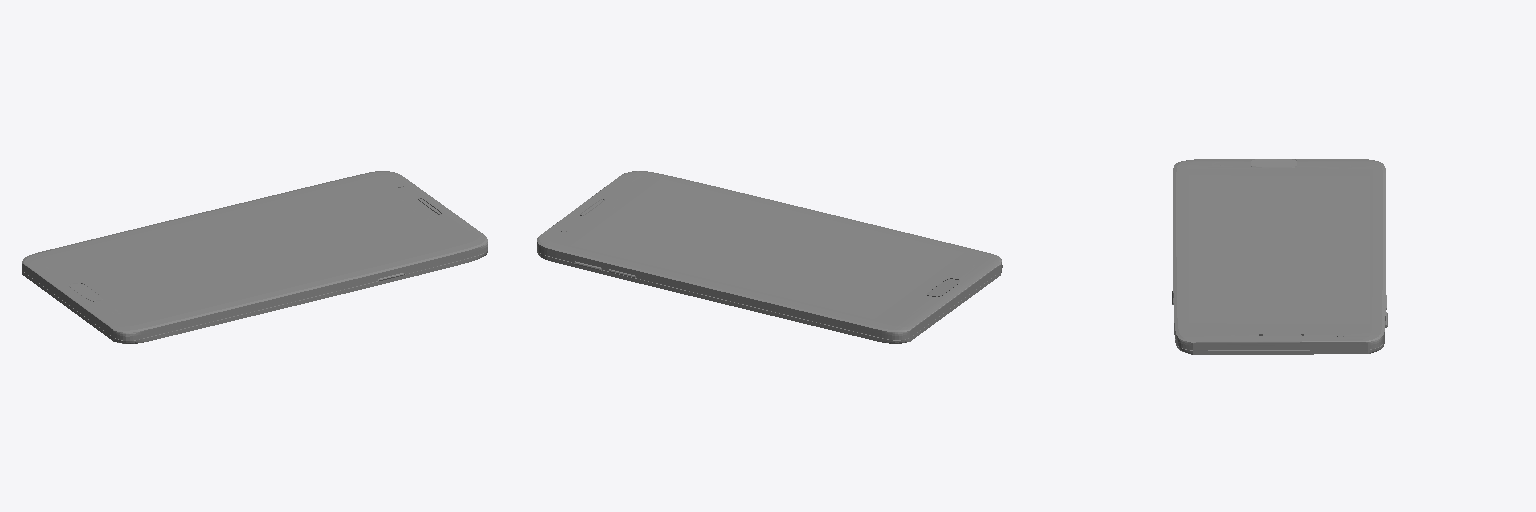
The model's file is prime2.obj.
The picture shows the model from 3 angles: view 1: azimuth 30°, elevation 25°; view 2: azimuth 150°, elevation 25°; view 3: azimuth 270°, elevation 25°; orthographic projection.
Parts seen in each view (by area): view 1: prime; view 2: prime; view 3: prime.
Boxes of the visible parts, box(x1,y1,x2,y2) form: prime: box(22, 171, 487, 343); prime: box(537, 171, 1002, 343); prime: box(1172, 159, 1387, 354).
Size of the model in its own units: 6.88 by 0.3243 by 3.42.